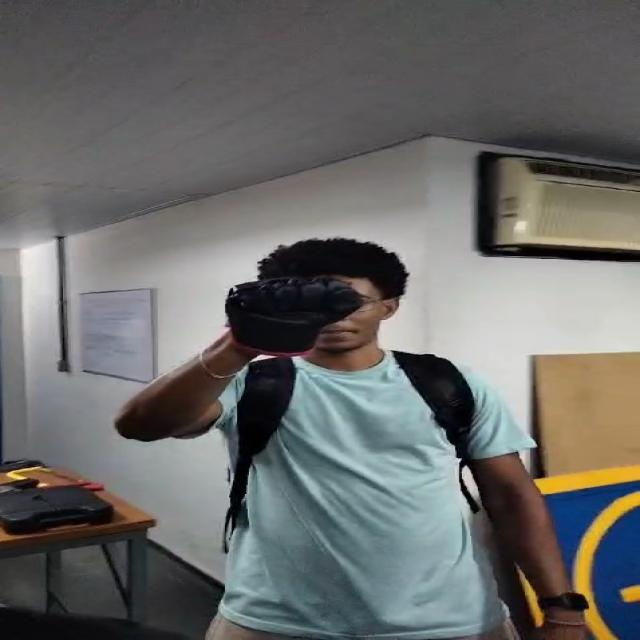Gloves: (223, 279, 364, 358)
